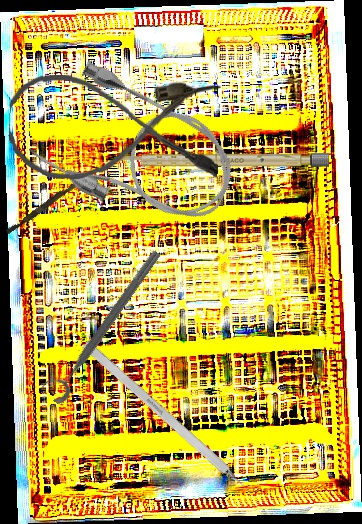Cannula: (23, 54, 251, 250), (7, 73, 221, 185)
Fixation Ring: (37, 241, 166, 407)
Hook Surgical: (81, 339, 264, 506)
Pusher: (5, 163, 100, 237)
Scalpel Handle: (117, 153, 329, 167)
